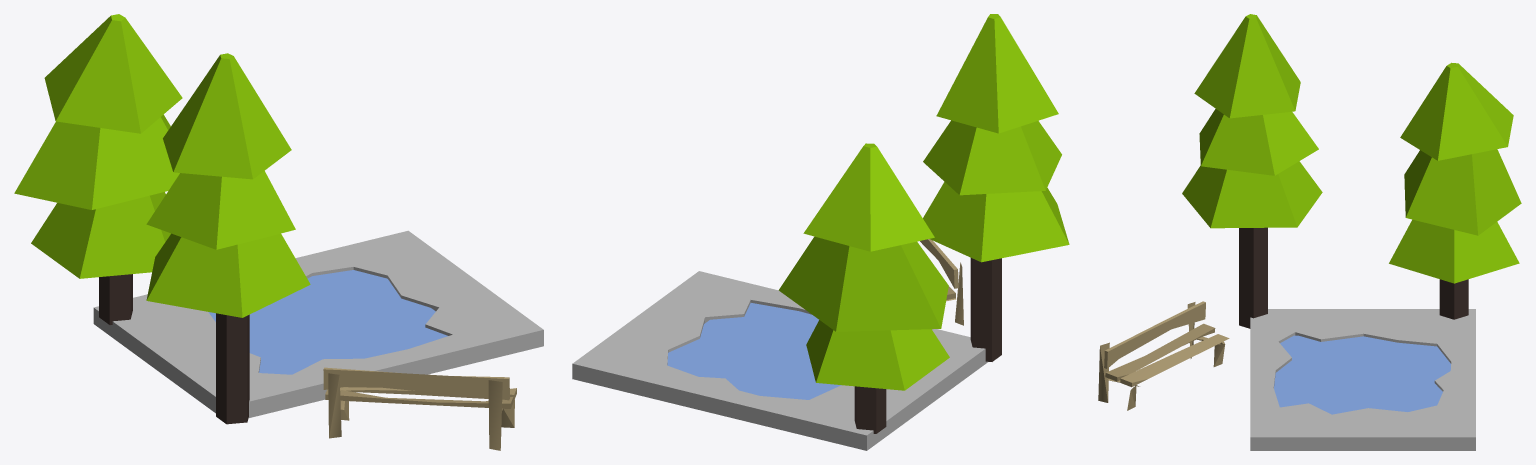
Rendered from park.fbx.
The picture shows the model from 3 angles, left to right: view 1: azimuth 30°, elevation 25°; view 2: azimuth 150°, elevation 25°; view 3: azimuth 270°, elevation 25°; orthographic projection. The views are drawn at different scales.
Parts seen in each view (by area): view 1: bench_01; view 2: bench_01; view 3: bench_01.
Boxes of the visible parts, x1,y1,x2,y2 form: bench_01: [14, 14, 543, 450]; bench_01: [572, 14, 1069, 450]; bench_01: [1098, 14, 1521, 450].
Size of the model in its own units: 1028 by 924 by 1139.
